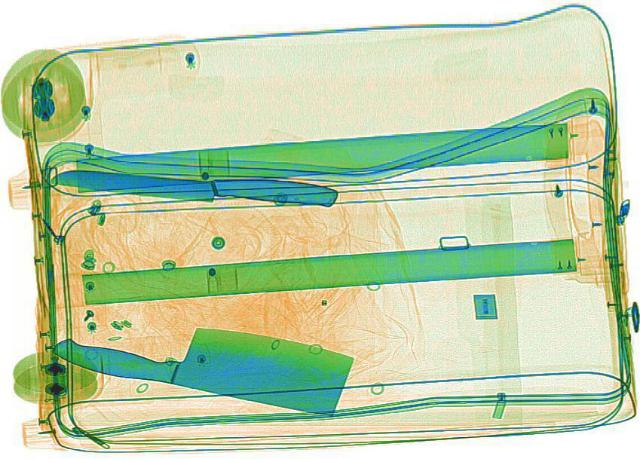Knife: (45, 312, 359, 412), (36, 165, 344, 210)
